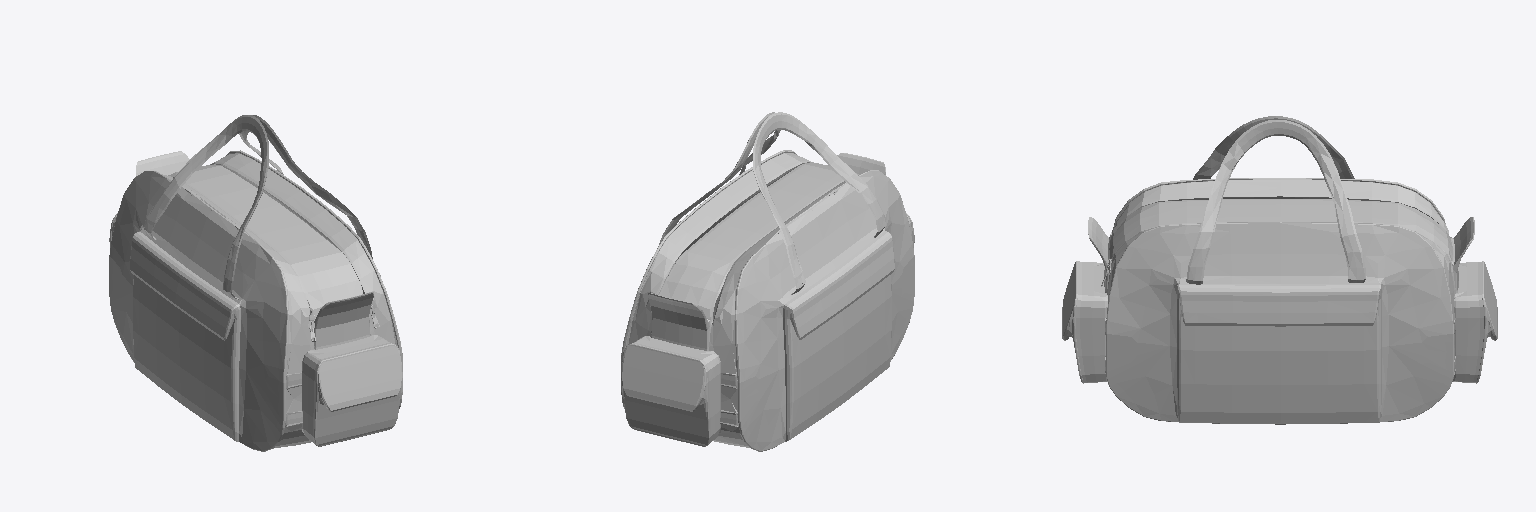
File: bagClosed.obj
3 views of the same model, side by side, from view 1: azimuth 30°, elevation 25°; view 2: azimuth 150°, elevation 25°; view 3: azimuth 270°, elevation 25° (orthographic).
Visible parts, largest first — view 1: polySurface19; view 2: polySurface19; view 3: polySurface19.
Part boxes in pixels (x1,y1,x2,y2): polySurface19: (109, 115, 402, 451); polySurface19: (621, 112, 914, 451); polySurface19: (1062, 116, 1497, 424).
Size of the model in its own units: 8.81 by 14.54 by 20.53.